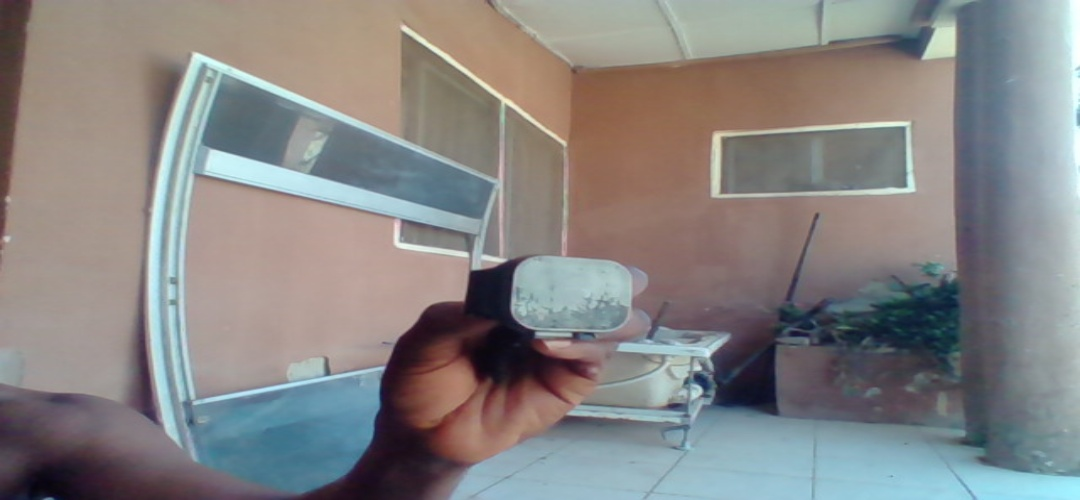smart_watch: (469, 255, 635, 334)
